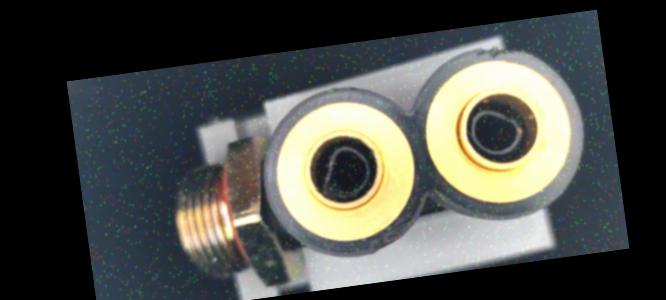bump: (361, 224, 413, 263), (467, 42, 529, 68)
off-centered: (457, 93, 537, 169), (309, 140, 376, 204)
